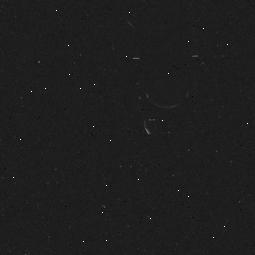proba_3_csc: (117, 41, 221, 139)
